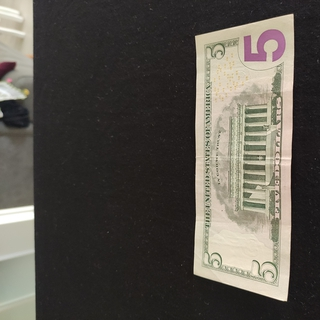5USDBack: (193, 13, 295, 303)
